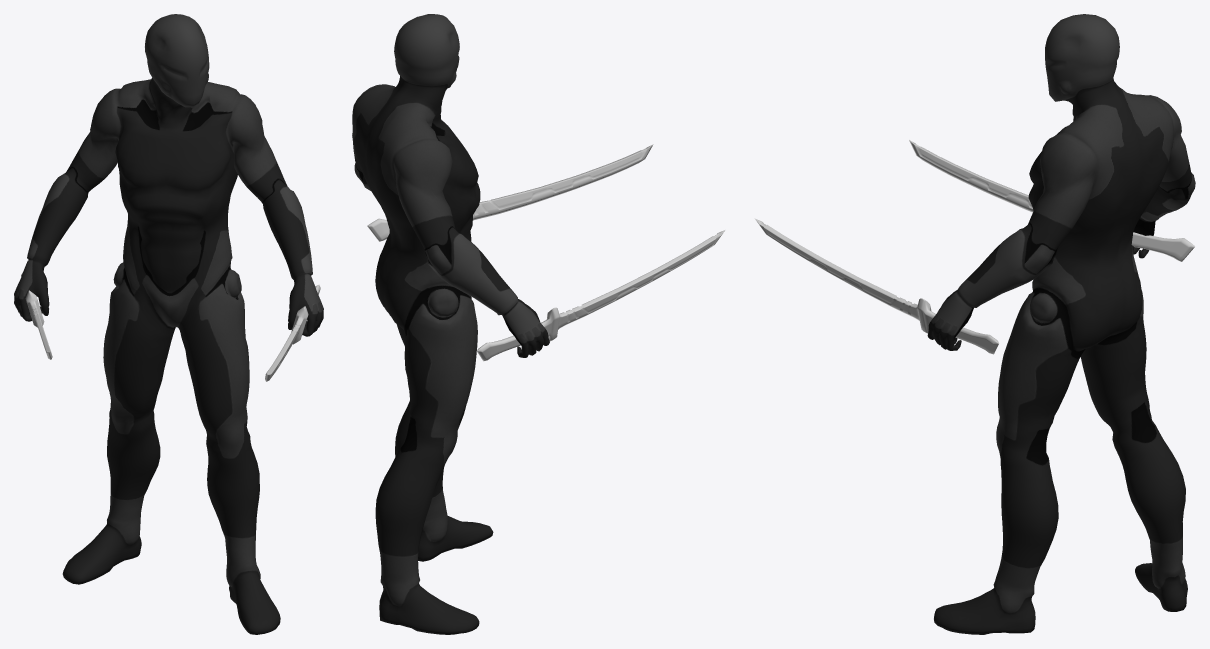
3 renders of one model, left to right at view 1: azimuth 30°, elevation 25°; view 2: azimuth 150°, elevation 25°; view 3: azimuth 270°, elevation 25°, orthographic. The views are drawn at different scales.
Visible parts, largest first — view 1: Cyborg_Ninja_Killer, Sword_l, Sword_l001; view 2: Cyborg_Ninja_Killer, Sword_l001, Sword_l; view 3: Cyborg_Ninja_Killer, Sword_l, Sword_l001.
Part boxes in pixels (x1,y1,x2,y2): Cyborg_Ninja_Killer: (14,14,323,634); Sword_l: (265,285,320,381); Sword_l001: (21,272,52,359); Cyborg_Ninja_Killer: (352,14,549,634); Sword_l001: (477,230,725,361); Sword_l: (367,144,653,241); Cyborg_Ninja_Killer: (927,14,1195,634); Sword_l: (754,218,999,354); Sword_l001: (909,140,1194,261).
Size of the model in its own units: 105 by 182 by 123.
